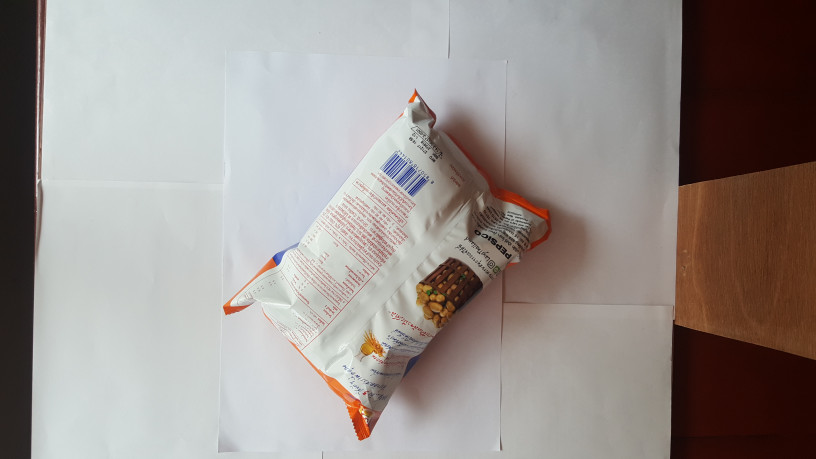lays-bbq: (217, 89, 561, 443)
